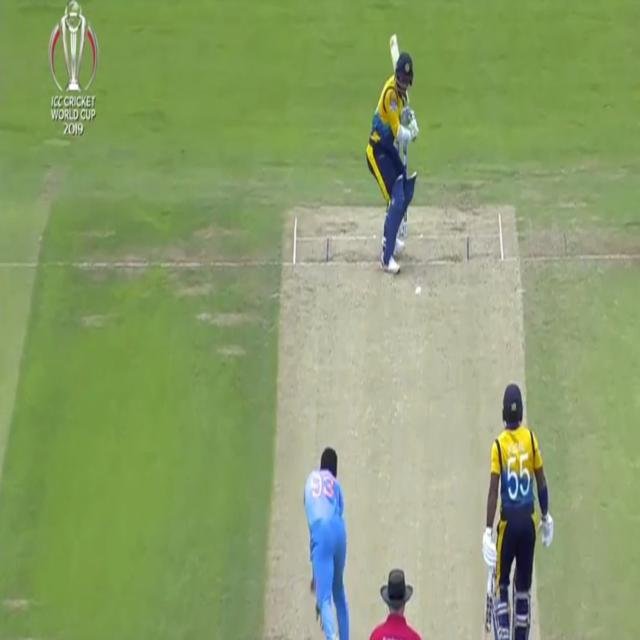Cricket ball: (413, 283, 424, 300)
